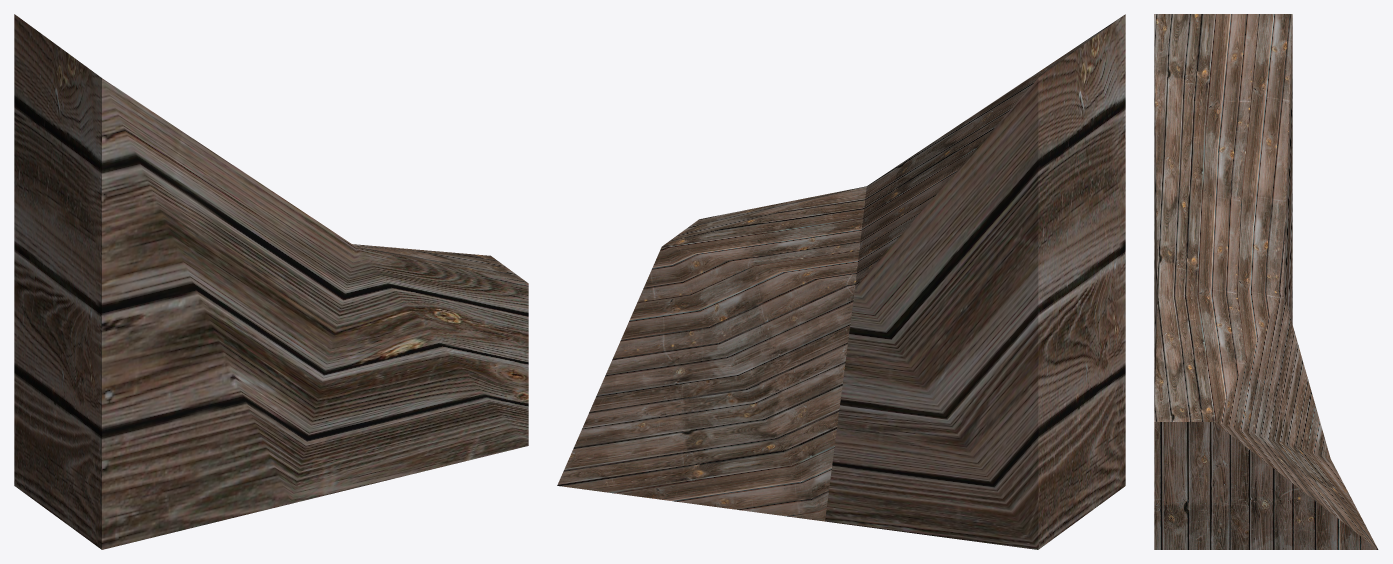
The model's file is stairs_base.fbx.
3 renders of one model, left to right at view 1: azimuth 30°, elevation 25°; view 2: azimuth 150°, elevation 25°; view 3: azimuth 270°, elevation 25°, orthographic. The views are drawn at different scales.
Visible parts, largest first — view 1: Cube; view 2: Cube; view 3: Cube.
Part boxes in pixels (bbox=[...]): Cube: bbox=[14, 14, 528, 549]; Cube: bbox=[557, 14, 1125, 549]; Cube: bbox=[1154, 14, 1378, 549].
Size of the model in its own units: 204 by 216 by 118.
